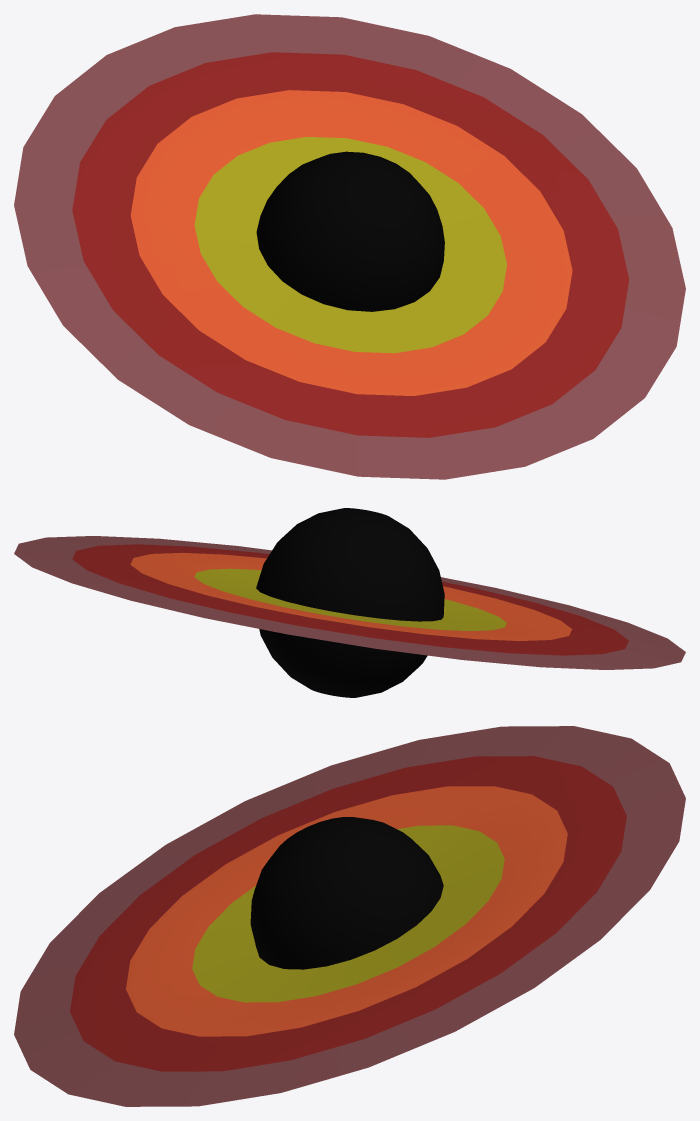
File: Mini Blackhole.fbx
The picture shows the model from 3 angles, top to bottom: view 1: azimuth 30°, elevation 25°; view 2: azimuth 150°, elevation 25°; view 3: azimuth 270°, elevation 25°; orthographic projection. The views are drawn at different scales.
Visible parts, largest first — view 1: Accretion Disk, Black Hole.001; view 2: Accretion Disk, Black Hole.001; view 3: Accretion Disk, Black Hole.001.
Boxes of the visible parts, x1,y1,x2,y2 form: Accretion Disk: [14, 14, 685, 479]; Black Hole.001: [256, 151, 444, 311]; Accretion Disk: [14, 536, 685, 669]; Black Hole.001: [256, 508, 444, 697]; Accretion Disk: [14, 726, 685, 1106]; Black Hole.001: [250, 817, 443, 969].
Bounding box in the file's own units: 191 × 65.45 × 180.
